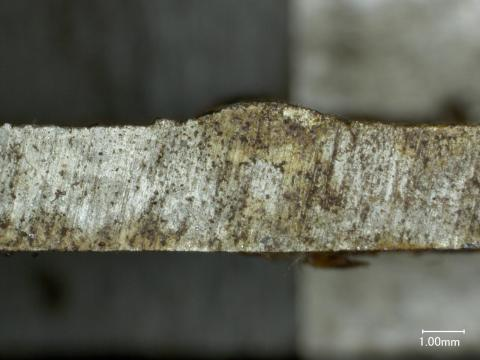test: (153, 100, 357, 123)
